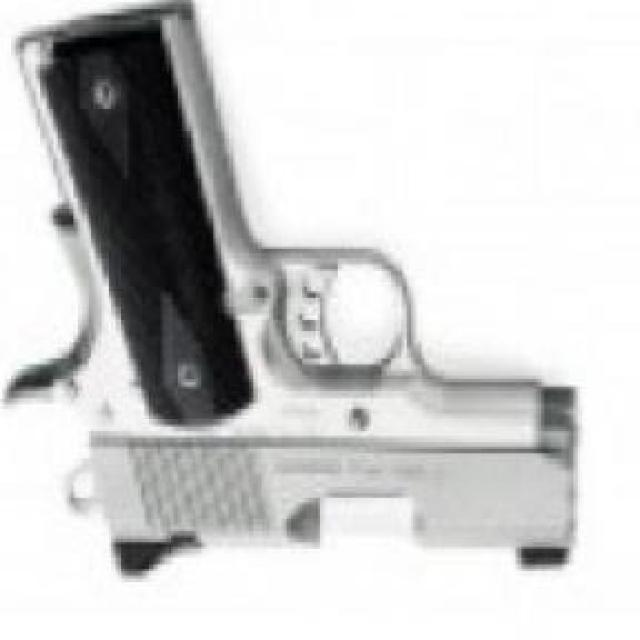pistol: (29, 3, 575, 591)
